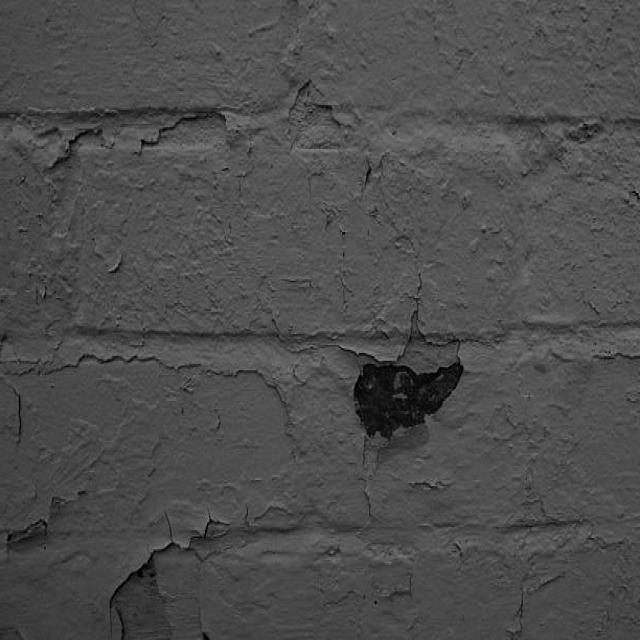peeling paint: (0, 64, 636, 640)
